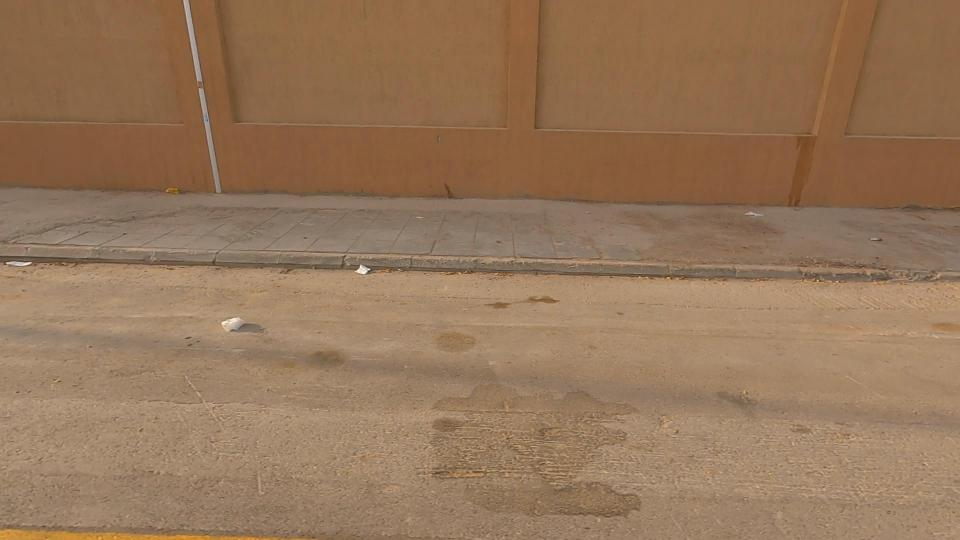GARBAGE: (167, 274, 310, 361), (307, 238, 411, 294), (0, 217, 64, 292)
